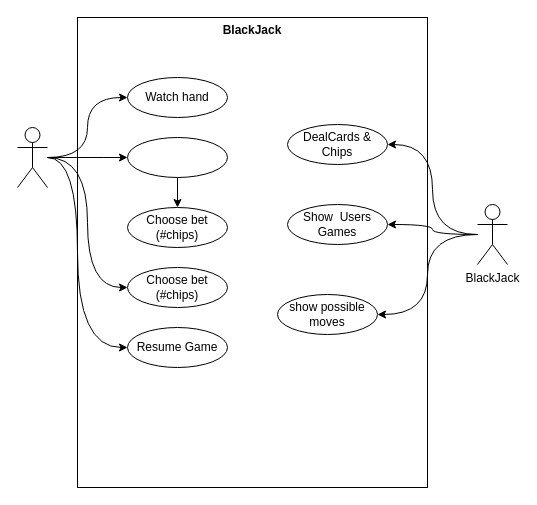
This 537x505 diagram has some shape labels left out. Each missing label, with the centre of its shape:
"Actor" belongs at (32,157).
"Make move" belongs at (177,157).
